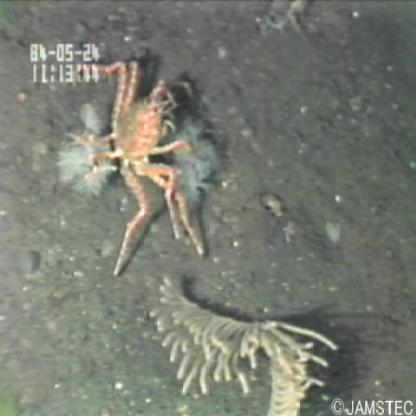Bio: (74, 52, 212, 283), (144, 274, 341, 416)
